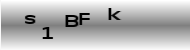1: (40, 25, 54, 40)
B: (63, 14, 79, 28)
F: (78, 11, 91, 25)
k: (107, 7, 122, 21)
s: (24, 13, 36, 24)
